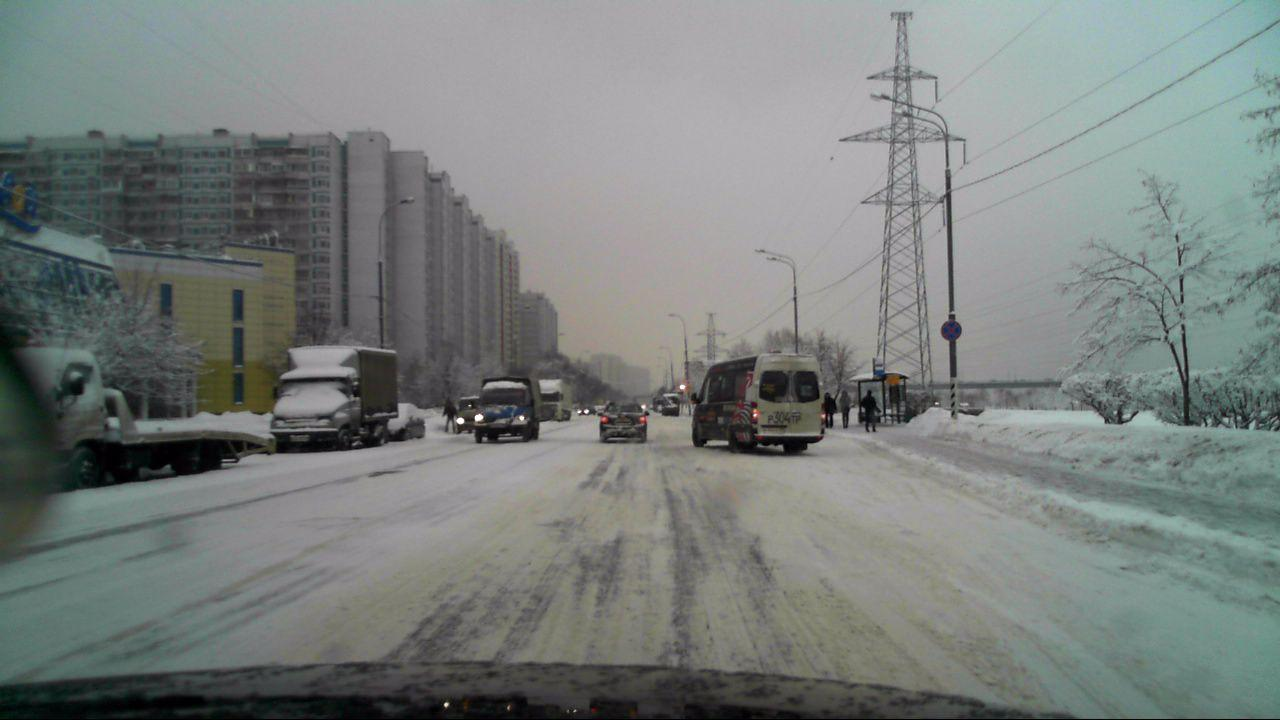road_sign: (940, 319, 962, 342)
